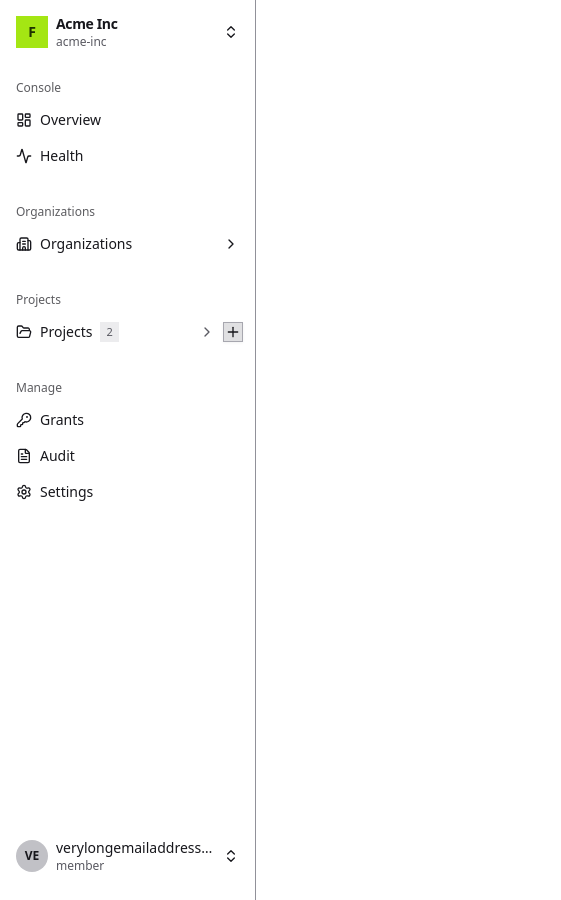
Test: sidebar user menu › opens the footer menu without unmounting the tree
Expected: the link "Overview" is shown, [16, 110, 101, 129]
Press the mouse on the button with aria-label "account menu": (128, 856) [8, 832, 247, 880]
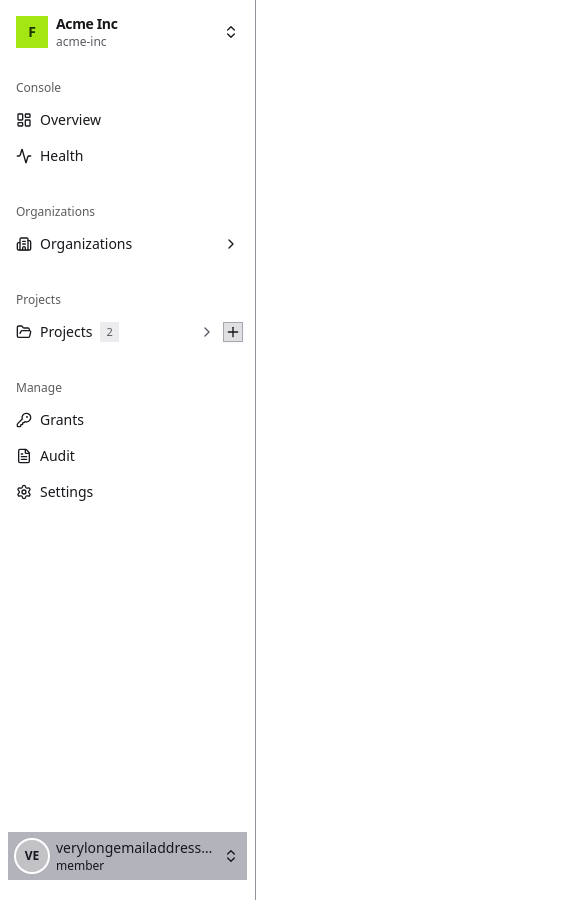
Click the button with aria-label "account menu": (128, 856) [8, 832, 247, 880]
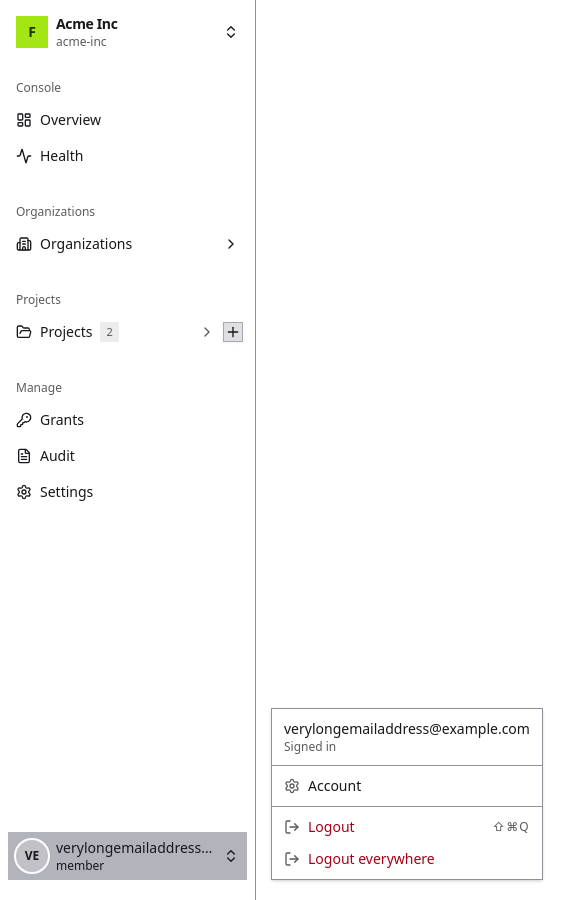
Expected: the number of menu items is 3, [284, 776, 361, 795]; [284, 817, 530, 836]; [284, 849, 435, 868]
Expected: the menu item "Account" is shown, [284, 776, 361, 795]
